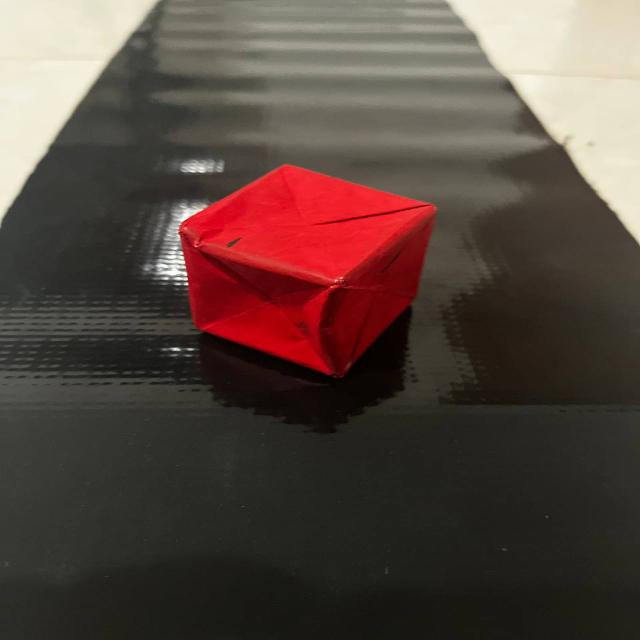Rojo: (162, 157, 460, 385)
